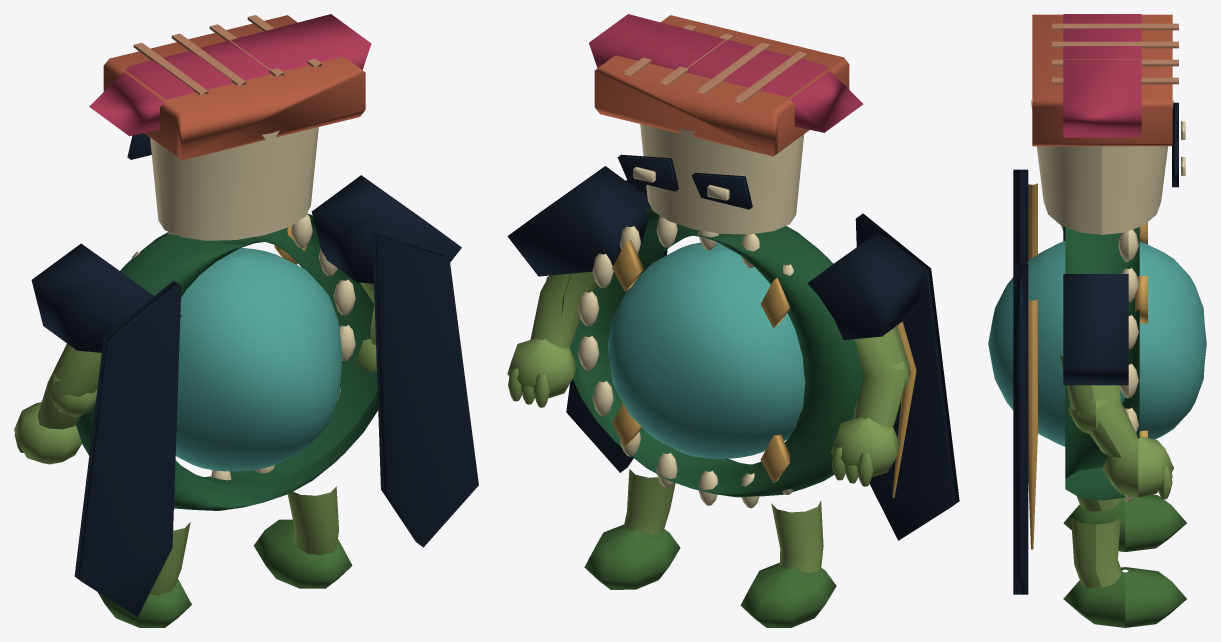
The model's file is hero_sushi.glb.
3 views of the same model, side by side, from view 1: azimuth 30°, elevation 25°; view 2: azimuth 150°, elevation 25°; view 3: azimuth 270°, elevation 25° (orthographic). The views are drawn at different scales.
Parts seen in each view (by area): view 1: TailoredCoat (×2), GlassCore, SeaweedWrap, ShoulderGuard (×2), SalmonHat, SushiFace, KnifeHeadband, Foot1, UpperArm-1, Shin1, Glove-1, Foot-1 (+4 smaller); view 2: GlassCore, SeaweedWrap, ShoulderGuard (×2), SalmonHat, TailoredCoat (×2), SushiFace, KnifeHeadband, Foot1, Foot-1, UpperArm-1, VesselClasp (×4), UpperArm1 (+8 smaller); view 3: GlassCore, SushiFace, KnifeHeadband, SalmonHat, ShoulderGuard, TailoredCoat (×2), SeaweedWrap, Foot1, Foot-1, UpperArm1, Shin1, GiltSeam (×2) (+11 smaller).
Boxes of the visible parts, left/top/right/bottom form: TailoredCoat (×2): left=74, top=232, right=478, bottom=616; GlassCore: left=175, top=248, right=342, bottom=471; SeaweedWrap: left=76, top=213, right=378, bottom=510; ShoulderGuard (×2): left=31, top=175, right=461, bottom=352; SalmonHat: left=103, top=15, right=365, bottom=160; SushiFace: left=150, top=127, right=318, bottom=240; KnifeHeadband: left=89, top=14, right=371, bottom=136; Foot1: left=253, top=519, right=352, bottom=588; UpperArm-1: left=37, top=343, right=101, bottom=429; Shin1: left=287, top=486, right=338, bottom=555; Glove-1: left=14, top=402, right=81, bottom=464; Foot-1: left=97, top=579, right=191, bottom=627; GlassCore: left=607, top=242, right=805, bottom=458; SeaweedWrap: left=561, top=208, right=863, bottom=497; ShoulderGuard (×2): left=507, top=166, right=925, bottom=339; SalmonHat: left=594, top=15, right=849, bottom=156; TailoredCoat (×2): left=566, top=180, right=959, bottom=540; SushiFace: left=640, top=124, right=804, bottom=234; KnifeHeadband: left=589, top=14, right=863, bottom=132; Foot1: left=584, top=524, right=680, bottom=589; Foot-1: left=740, top=562, right=836, bottom=627; UpperArm-1: left=853, top=326, right=910, bottom=427; VesselClasp (×4): left=612, top=240, right=790, bottom=483; UpperArm1: left=530, top=271, right=597, bottom=348; GlassCore: left=988, top=241, right=1206, bottom=446; SushiFace: left=1030, top=99, right=1173, bottom=234; KnifeHeadband: left=1063, top=14, right=1141, bottom=137; SalmonHat: left=1032, top=14, right=1172, bottom=146; ShoulderGuard: left=1063, top=274, right=1128, bottom=385; TailoredCoat (×2): left=1013, top=169, right=1028, bottom=594; SeaweedWrap: left=1065, top=227, right=1139, bottom=500; Foot1: left=1063, top=567, right=1186, bottom=627; Foot-1: left=1063, top=494, right=1186, bottom=551; UpperArm1: left=1060, top=355, right=1138, bottom=457; Shin1: left=1071, top=517, right=1121, bottom=587; GiltSeam (×2): left=1028, top=183, right=1037, bottom=549.
Bounding box in the file's own units: 1.39 × 1.81 × 0.67.
